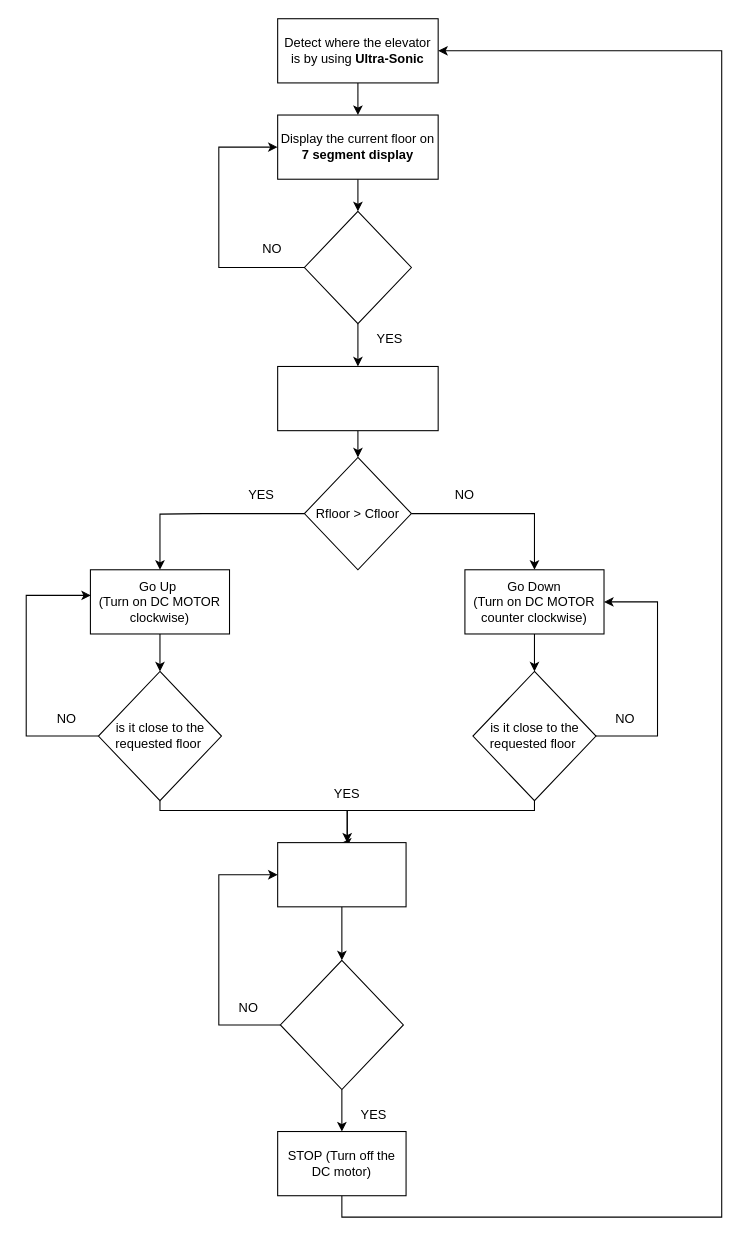
Some shapes in this 749 by 1244 pixel diagram are drawn without their labels. Each missing label, with the centre of its shape:
Is Any Button Pressed ?: (357,267)
Is the requested floor reached?: (341,1024)
move the elevator based on the requested floor: (357,398)
Slow Down: (341,874)
